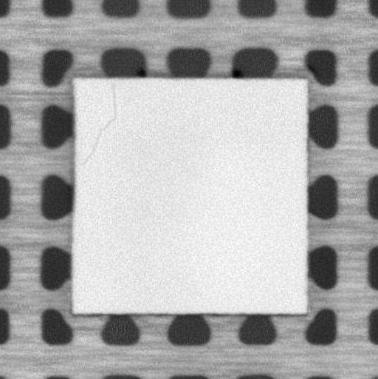DIE_CRACK: (81, 82, 118, 168)
